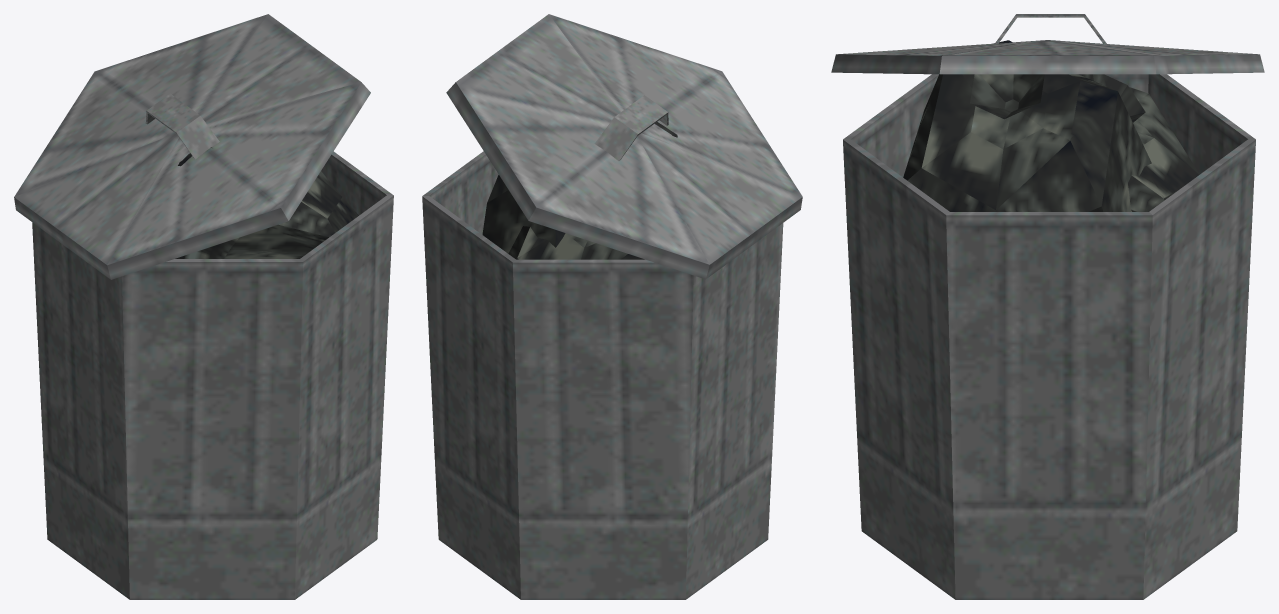
The model's file is Urban_MetaltrashcanOverflowing_Model.fbx.
The picture shows the model from 3 angles, left to right: view 1: azimuth 30°, elevation 25°; view 2: azimuth 150°, elevation 25°; view 3: azimuth 270°, elevation 25°; orthographic projection. The views are drawn at different scales.
Visible parts, largest first — view 1: Urban_MetaltrashcanOverflowing_Mesh; view 2: Urban_MetaltrashcanOverflowing_Mesh; view 3: Urban_MetaltrashcanOverflowing_Mesh.
Boxes of the visible parts, x1,y1,x2,y2 form: Urban_MetaltrashcanOverflowing_Mesh: (14, 14, 393, 599); Urban_MetaltrashcanOverflowing_Mesh: (422, 14, 802, 599); Urban_MetaltrashcanOverflowing_Mesh: (831, 14, 1264, 599).
Bounding box in the file's own units: 0.7699 × 1.19 × 0.8797.
